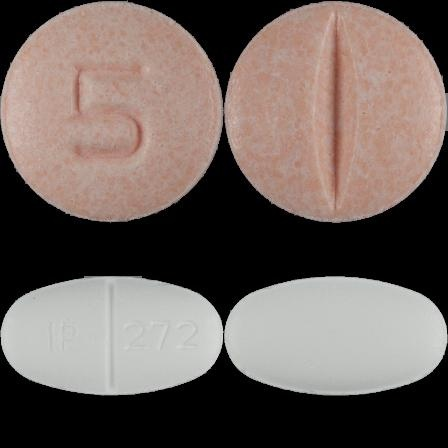63629-1761: (0, 0, 224, 224)
